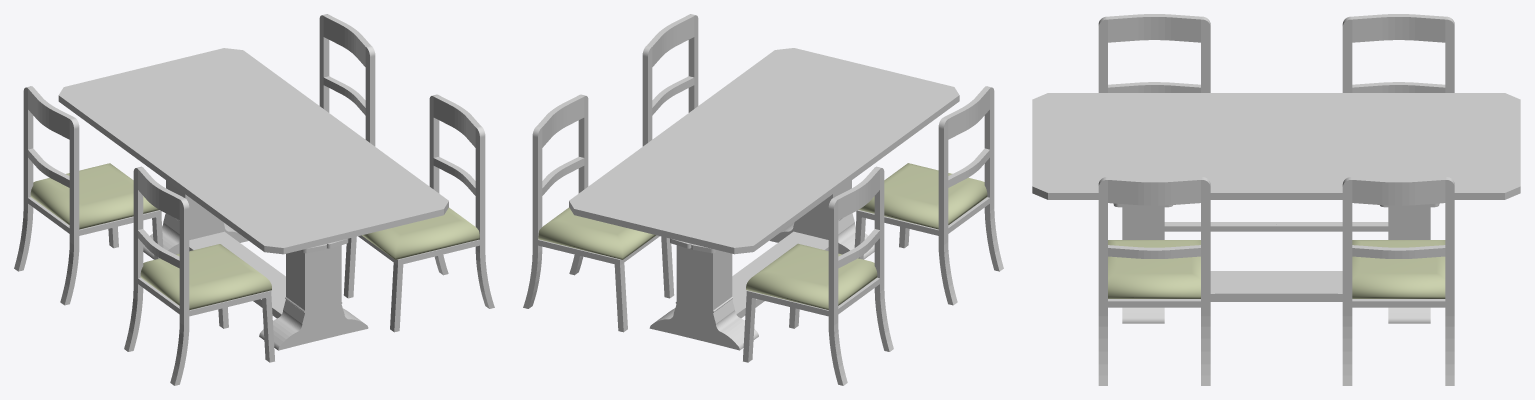
The model's file is uploads_files_2700158_Table_Set_3.fbx.
The picture shows the model from 3 angles, left to right: view 1: azimuth 30°, elevation 25°; view 2: azimuth 150°, elevation 25°; view 3: azimuth 270°, elevation 25°; orthographic projection. The views are drawn at different scales.
Parts seen in each view (by area): view 1: Table, Chair.003, Chair.002, Chair, Cube.002, Cube.004, Chair.001, Cube.008; view 2: Table, Chair.002, Chair.003, Chair.001, Cube.004, Cube.002, Chair, Cube.003; view 3: Table, Chair.001, Chair, Chair.002, Chair.003, Cube.003, Cube.008.
Part boxes in pixels (box(x1,y1,x2,y2)): Table: box(58, 48, 448, 350); Chair.003: box(124, 166, 274, 385); Chair.002: box(14, 86, 163, 305); Chair: box(343, 94, 494, 332); Cube.002: box(140, 244, 271, 310); Cube.004: box(30, 163, 158, 229); Chair.001: box(319, 14, 375, 146); Cube.008: box(362, 207, 479, 259); Table: box(569, 48, 959, 350); Chair.002: box(743, 166, 893, 385); Chair.003: box(854, 86, 1003, 305); Chair.001: box(523, 94, 674, 332); Cube.004: box(746, 243, 877, 309); Cube.002: box(859, 163, 987, 229); Chair: box(642, 14, 698, 146); Cube.003: box(538, 207, 656, 259); Table: box(1032, 93, 1520, 323); Chair.001: box(1342, 177, 1454, 385); Chair: box(1098, 177, 1210, 385); Chair.002: box(1342, 14, 1454, 92); Chair.003: box(1098, 14, 1210, 92); Cube.003: box(1352, 240, 1445, 298); Cube.008: box(1108, 240, 1200, 298).
Size of the model in its own units: 180 by 97.19 by 214.
